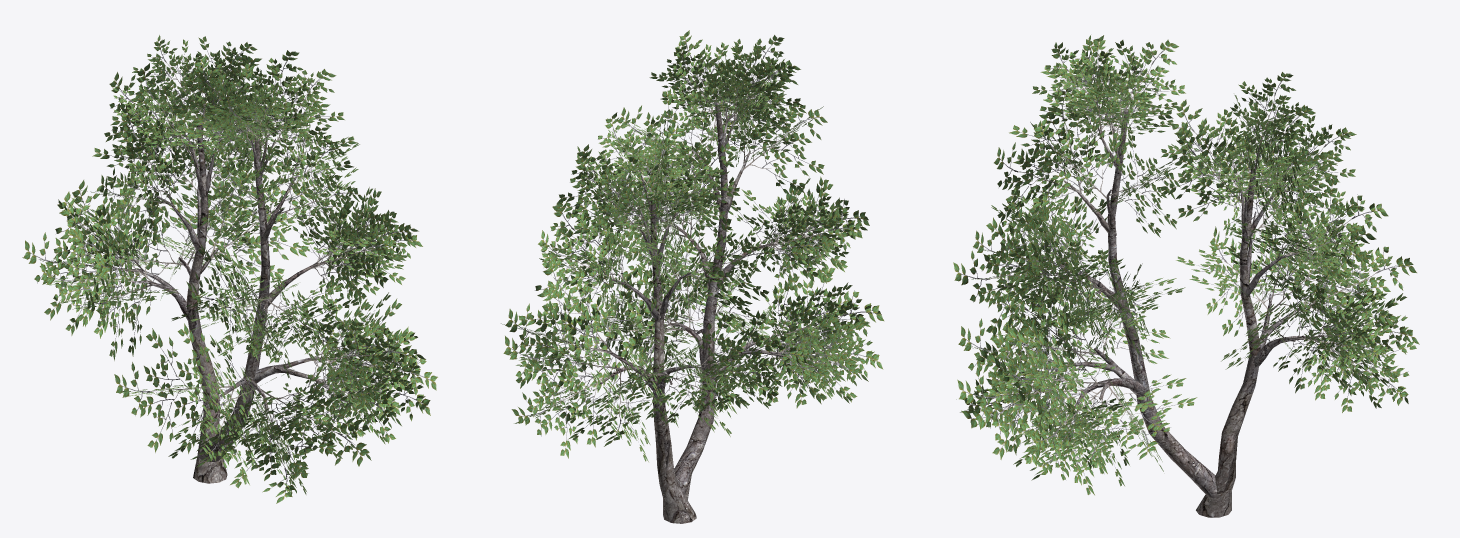
The picture shows the model from 3 angles, left to right: view 1: azimuth 30°, elevation 25°; view 2: azimuth 150°, elevation 25°; view 3: azimuth 270°, elevation 25°; orthographic projection. The views are drawn at different scales.
Bounding box in the file's own units: 10.58 × 14.56 × 14.04.
Materials: 2 (2 with a texture image).
